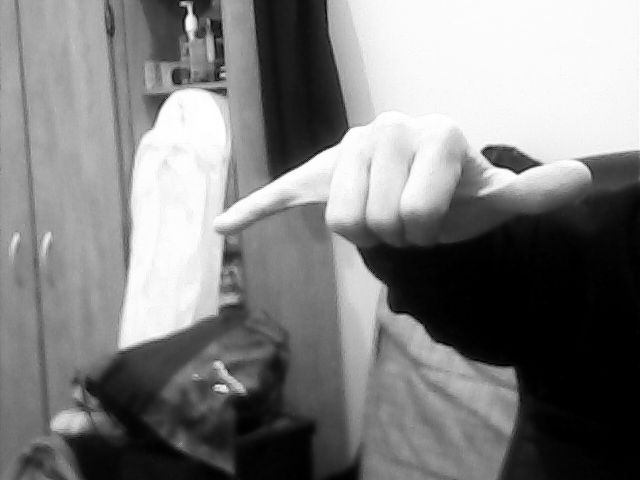aloha: (211, 107, 602, 262)
